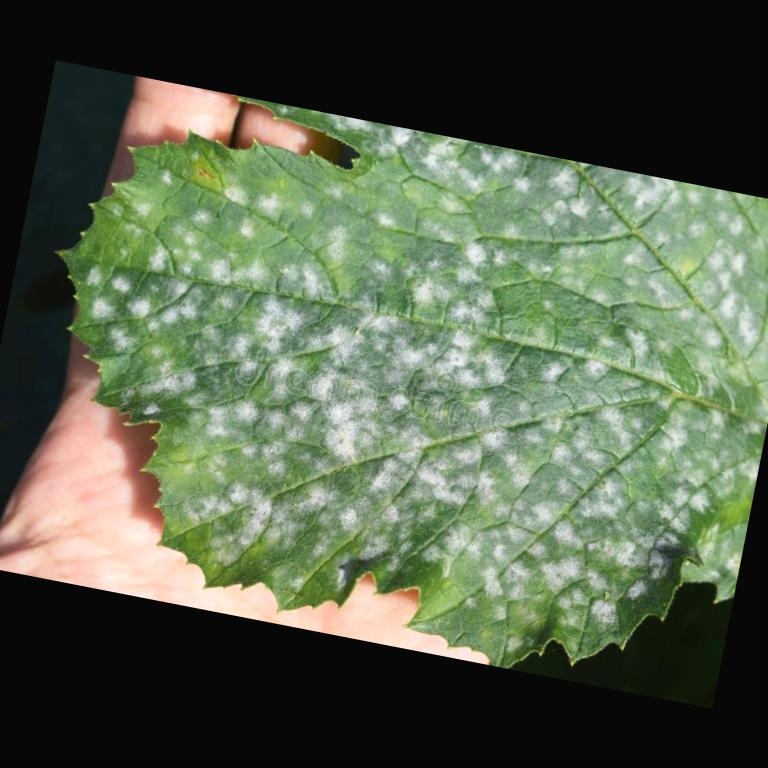powdery-mildew: (206, 167, 768, 431), (206, 403, 610, 595)
